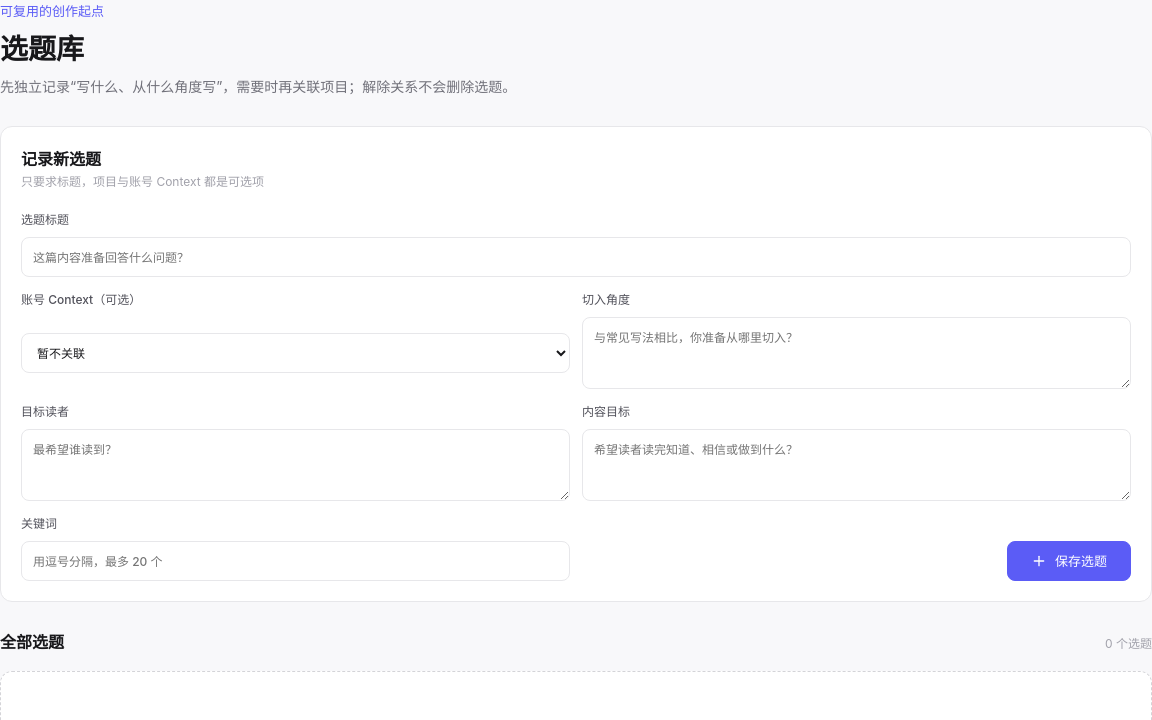
Test: TopicWorkspace › creates a reusable topic without requiring a project
The width and height of the screenshot is (1152, 720).
Type "如何建立稳定的选题系统" into the field labelled "选题标题" at (576, 257), box [21, 237, 1131, 277]
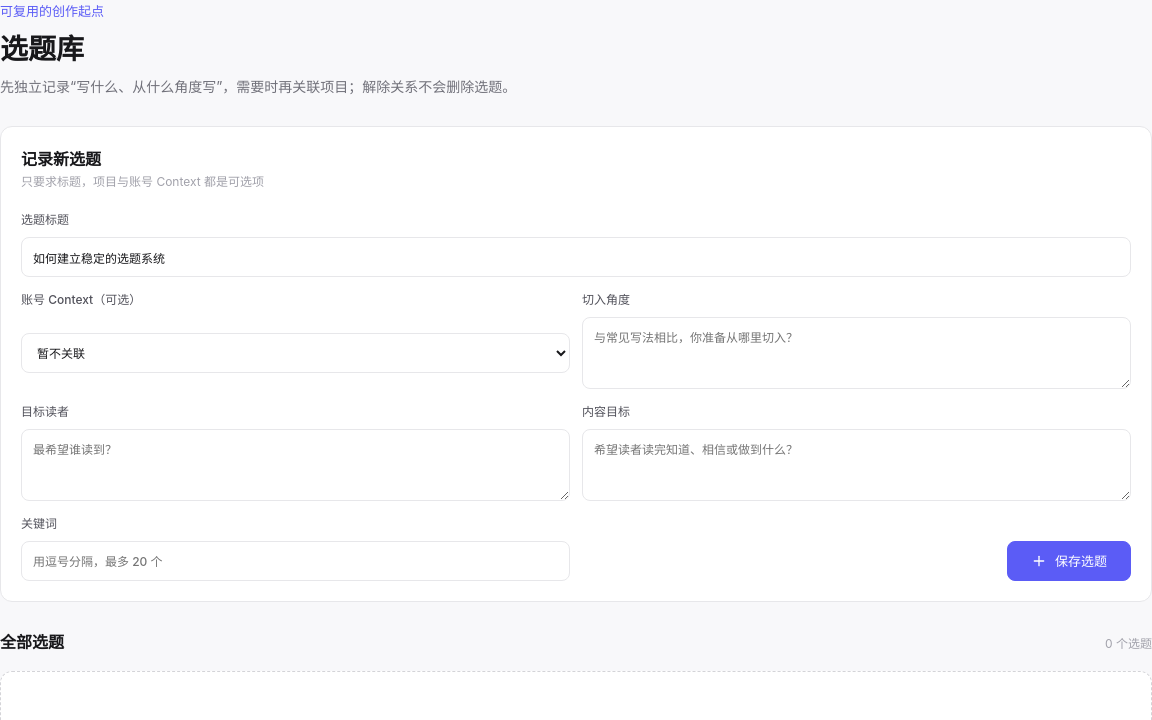
Type "选题，内容系统" into the field labelled "关键词" at (296, 561), box [21, 541, 570, 581]
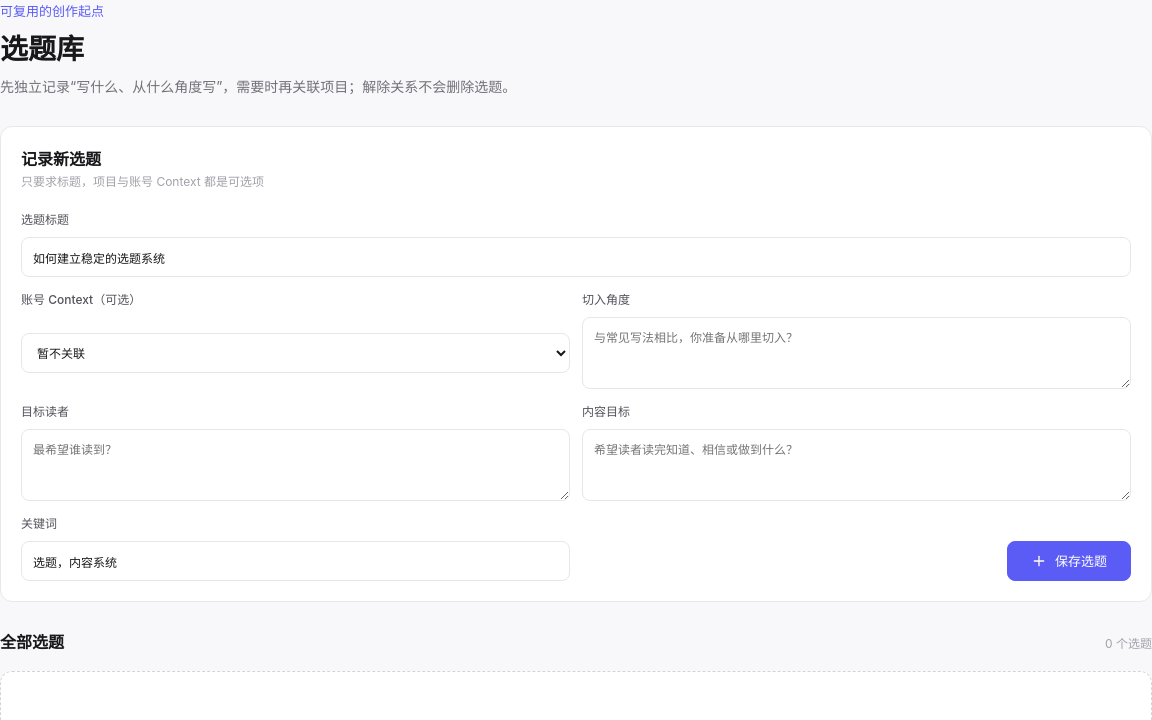
Click the button "保存选题" at (1069, 561), box [1007, 541, 1131, 581]
(page scrolled)
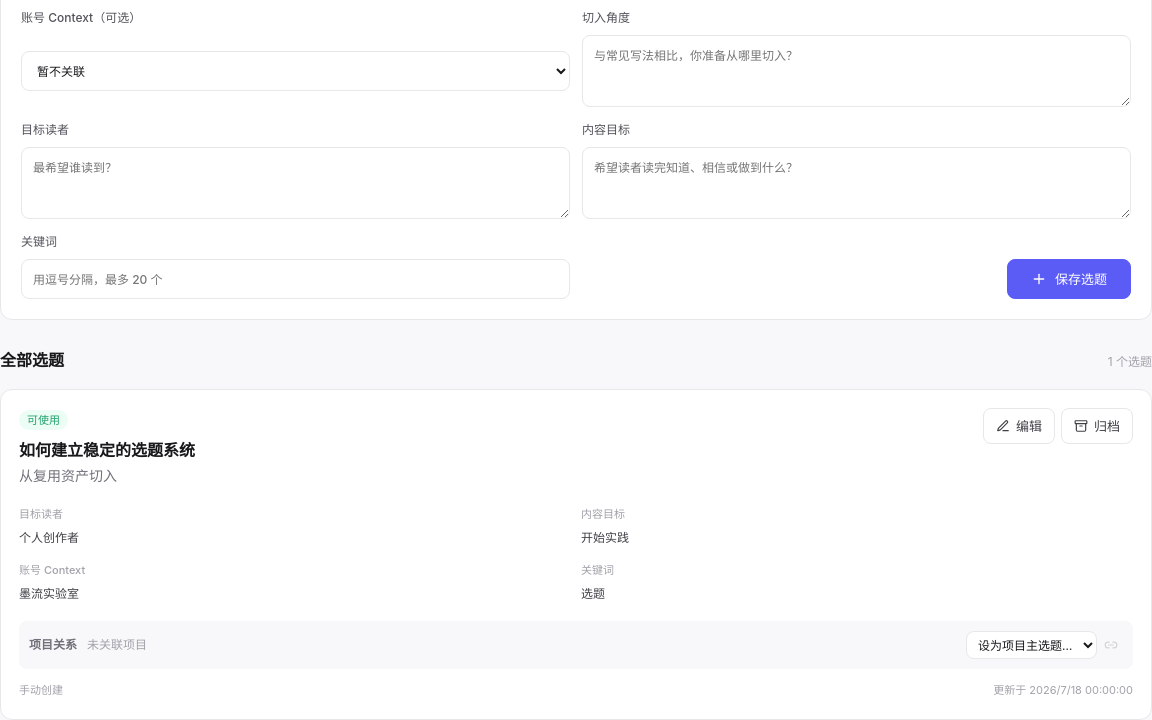
Check: the heading "如何建立稳定的选题系统" is shown, box [19, 440, 195, 460]
